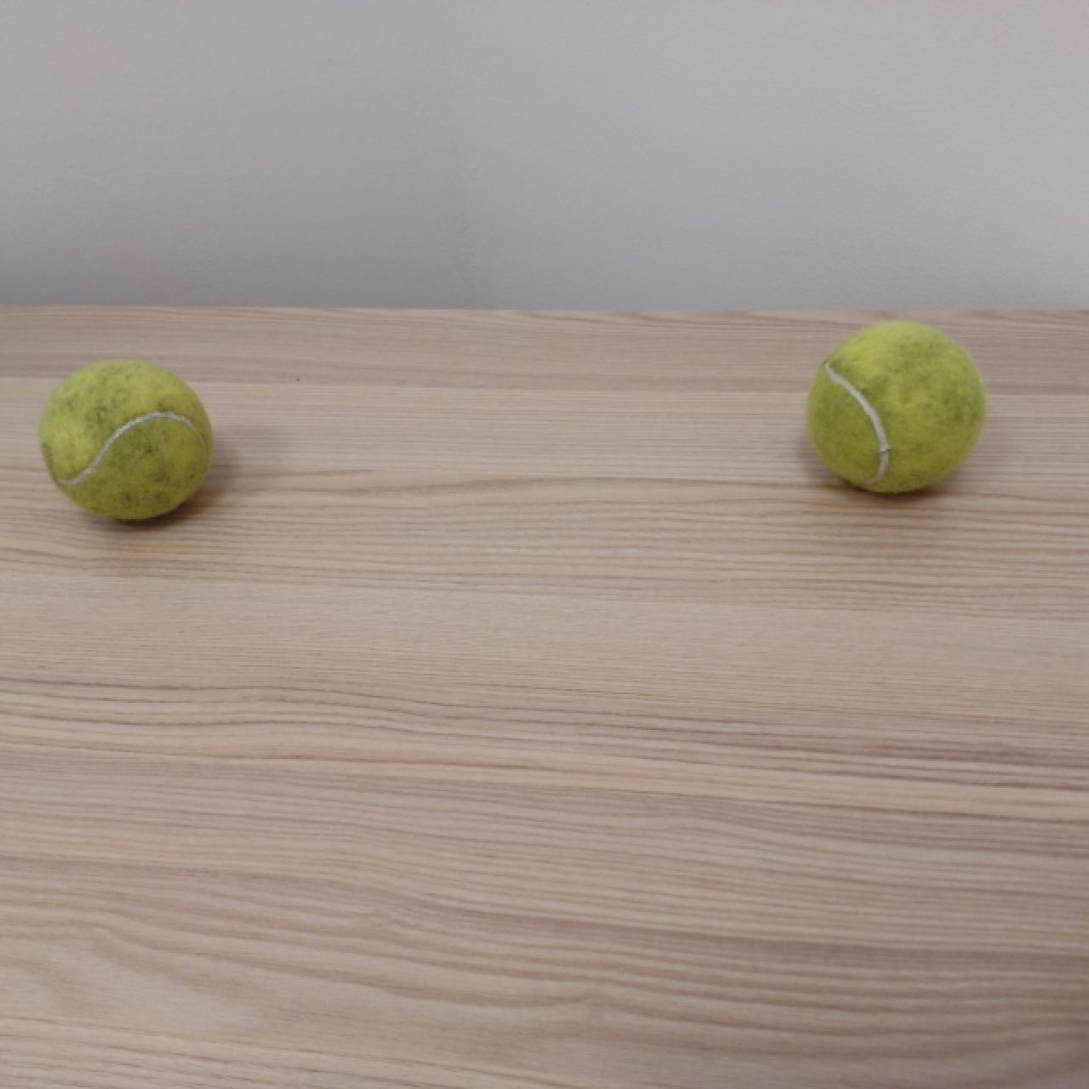tennis-ball: (809, 319, 985, 496), (41, 359, 218, 523)
